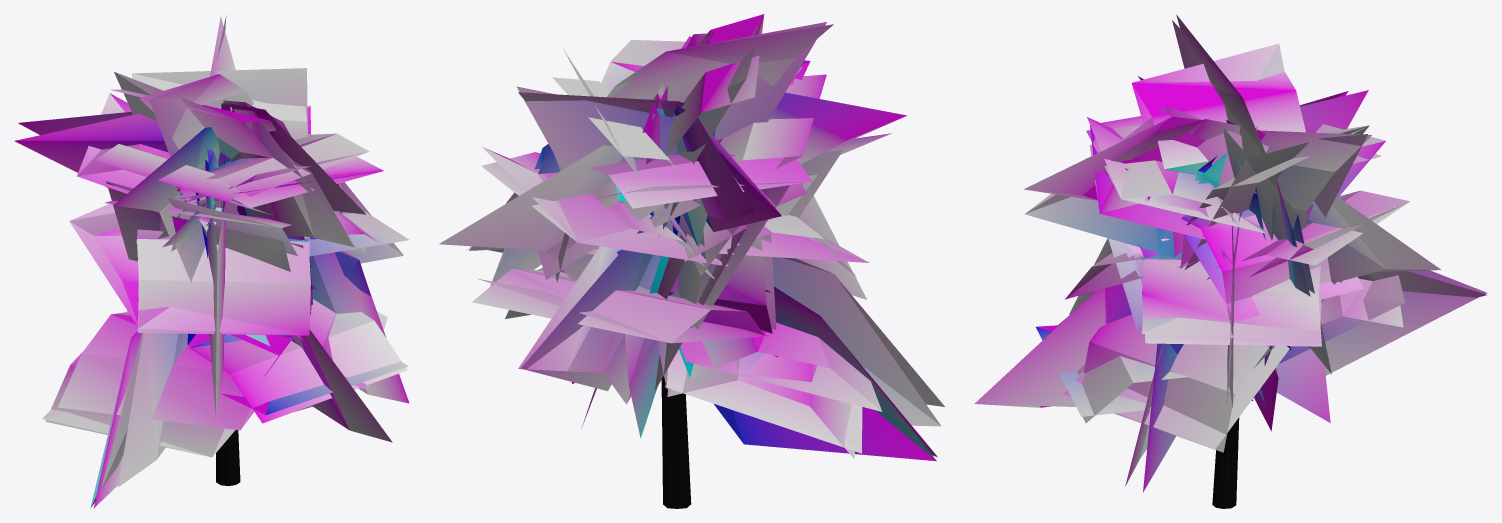
Rendered from ekasia_tumula_01_c.dae.
3 views of the same model, side by side, from view 1: azimuth 30°, elevation 25°; view 2: azimuth 150°, elevation 25°; view 3: azimuth 270°, elevation 25° (orthographic). The views are drawn at different scales.
Visible parts, largest first — view 1: ekasia160, ekasia80; view 2: ekasia160, ekasia80; view 3: ekasia160, ekasia80.
Boxes of the visible parts, x1,y1,x2,y2 form: ekasia160: [18, 16, 409, 508]; ekasia80: [14, 15, 409, 508]; ekasia160: [466, 14, 944, 508]; ekasia80: [439, 15, 941, 508]; ekasia160: [978, 14, 1486, 508]; ekasia80: [974, 20, 1486, 508].
Size of what is drawn, in the model's own units: 15.06 by 18.37 by 17.13.
